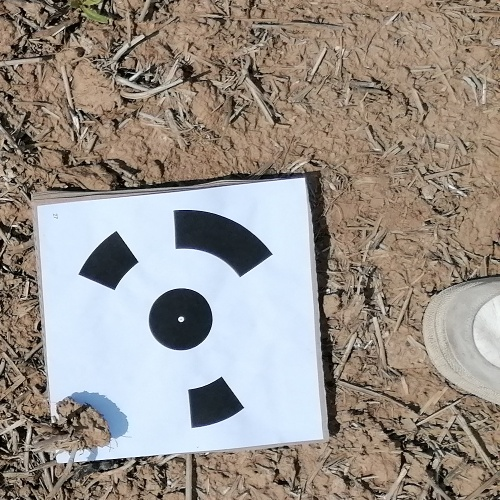beet: (70, 0, 110, 21)
